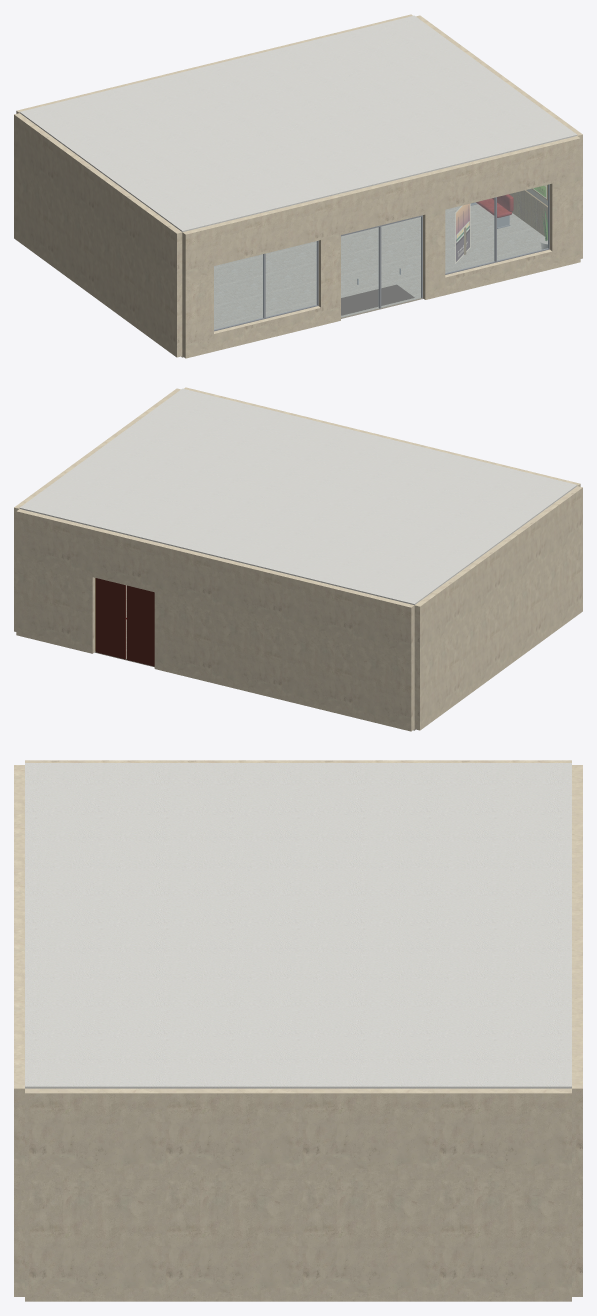
The model's file is nanyang_lobby.glb.
The picture shows the model from 3 angles, top to bottom: view 1: azimuth 30°, elevation 25°; view 2: azimuth 150°, elevation 25°; view 3: azimuth 270°, elevation 25°; orthographic projection. The views are drawn at different scales.
Visible parts, largest first — view 1: CEILING, WALL_front_front_plaster, WALL_left_left_plaster, FRONT_GLASS, FLOOR, FRONT_FRAME, WALL_right_right_plaster, DOORMAT, WALL_back_back_plaster, WALL_right_right_wains, STANDEE, BENCH_SEAT; view 2: CEILING, WALL_back_back_plaster, WALL_left_left_plaster, HALL_DOORS, WALL_right_right_plaster, WALL_front_front_plaster; view 3: CEILING, WALL_right_right_plaster, WALL_back_back_plaster, WALL_front_front_plaster, WALL_left_left_plaster.
Boxes of the visible parts, x1,y1,x2,y2 form: CEILING: [19, 15, 577, 232]; WALL_front_front_plaster: [182, 136, 580, 358]; WALL_left_left_plaster: [14, 113, 182, 357]; FRONT_GLASS: [214, 185, 548, 329]; FLOOR: [181, 204, 544, 357]; FRONT_FRAME: [214, 184, 549, 331]; WALL_right_right_plaster: [416, 15, 582, 258]; DOORMAT: [341, 284, 414, 315]; WALL_back_back_plaster: [16, 14, 412, 113]; WALL_right_right_wains: [509, 191, 547, 236]; STANDEE: [455, 204, 470, 263]; BENCH_SEAT: [476, 194, 513, 217]; CEILING: [19, 388, 577, 605]; WALL_back_back_plaster: [16, 509, 414, 731]; WALL_left_left_plaster: [414, 486, 582, 730]; HALL_DOORS: [95, 578, 154, 666]; WALL_right_right_plaster: [14, 388, 180, 631]; WALL_front_front_plaster: [184, 387, 580, 486]; CEILING: [25, 763, 571, 1088]; WALL_right_right_plaster: [25, 1088, 571, 1301]; WALL_back_back_plaster: [572, 765, 582, 1296]; WALL_front_front_plaster: [14, 765, 24, 1296]; WALL_left_left_plaster: [25, 760, 571, 762].
Bounding box in the file's own units: 14.4 × 4.29 × 10.4.
36 materials, 17 textured.
